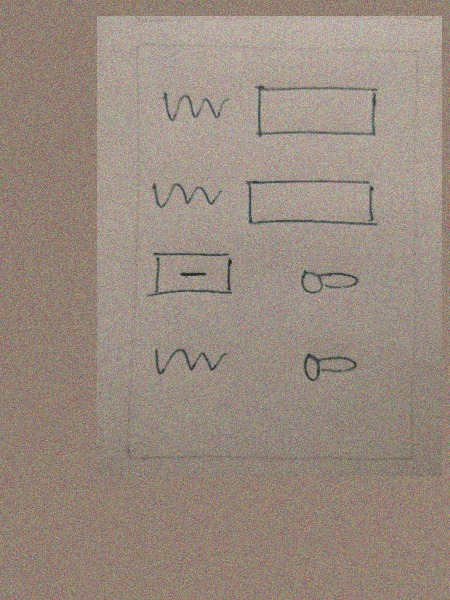button: (143, 247, 239, 304)
switch: (296, 345, 361, 389), (294, 263, 362, 301)
text: (151, 85, 236, 131), (149, 337, 229, 379), (147, 177, 224, 216)
text_input: (250, 78, 382, 146), (241, 176, 384, 232)
